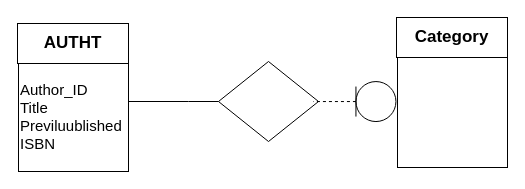
Some shapes in this 525 by 189 pixel diagram are drawn without their labels. Here are the shapes that lost their labels. From the top down, the centre of each, then its label:
(x=268, y=101): loan
(x=452, y=112): Book_ID Year_Published ISBN
